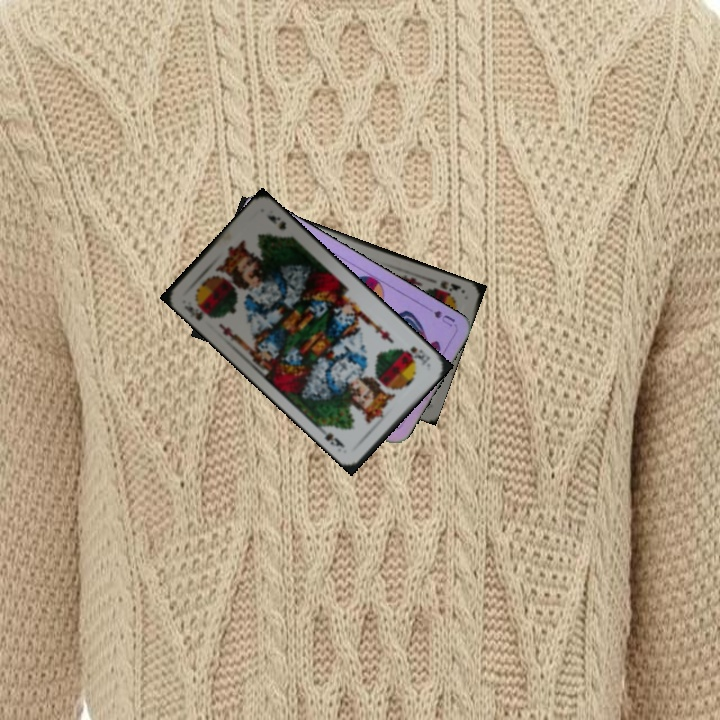SK: (180, 299, 216, 323), (402, 342, 433, 368), (436, 277, 464, 294)
SU: (429, 306, 457, 330)
